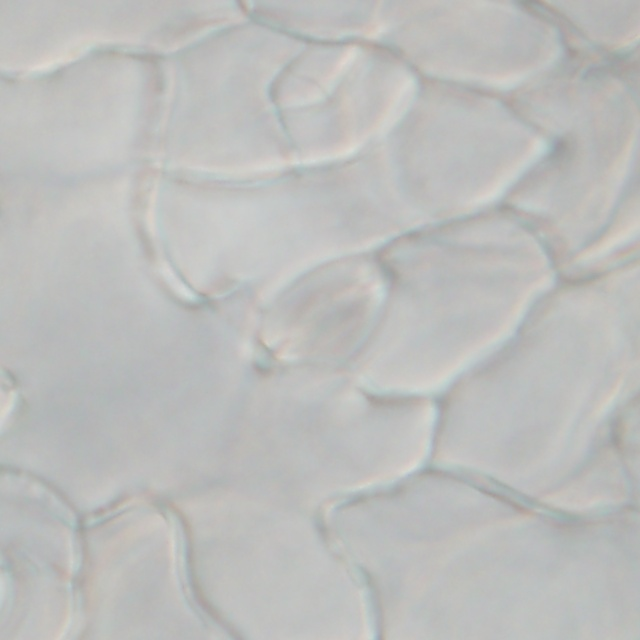center: (290, 304, 353, 324), (3, 545, 81, 559)
stomata-huw1: (252, 252, 391, 376), (1, 465, 83, 639)
